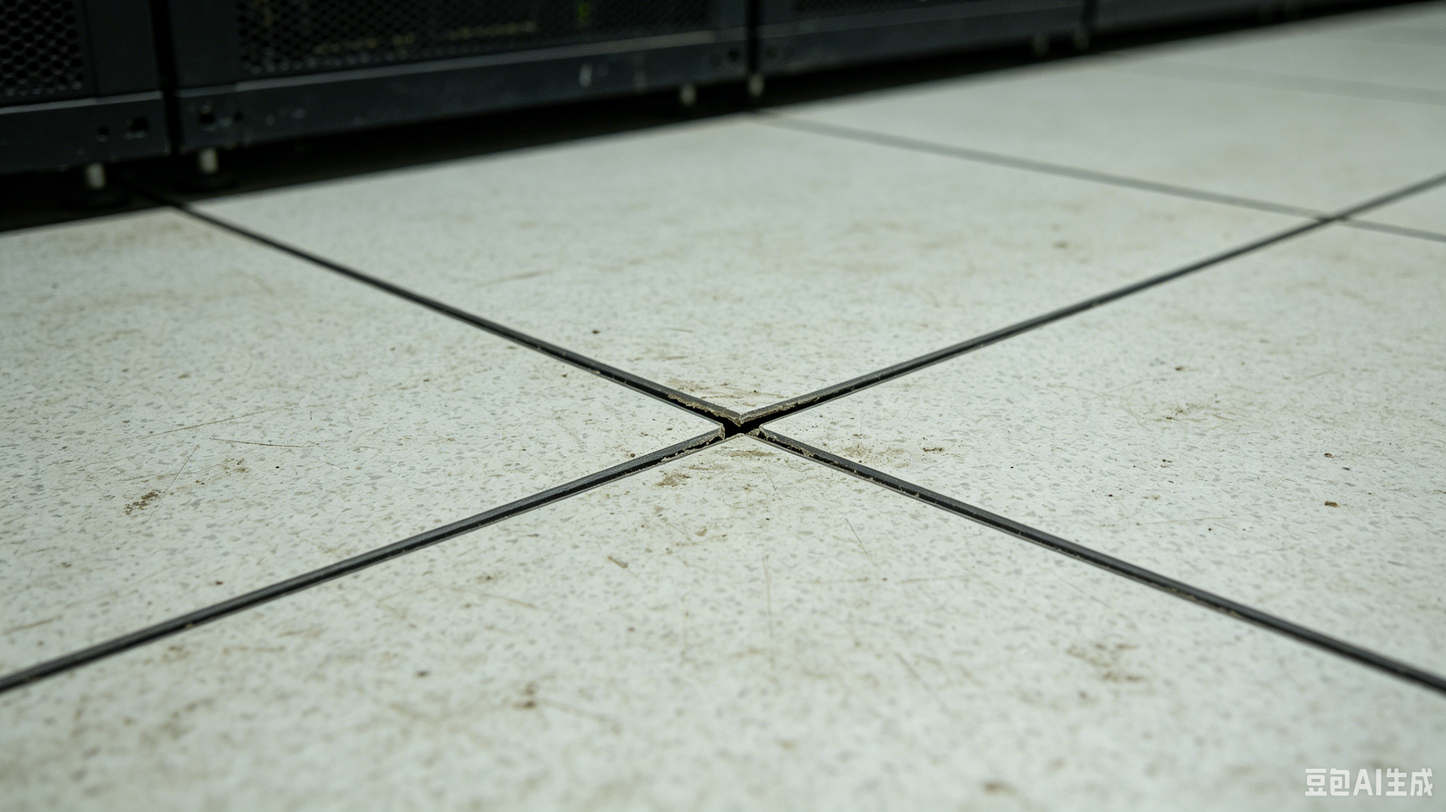floor_defect: (485, 307, 975, 549)
